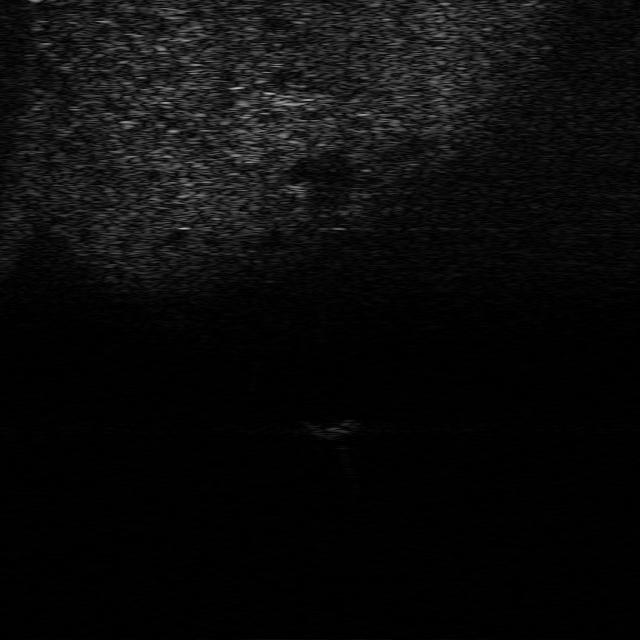cube: (300, 417, 360, 441)
